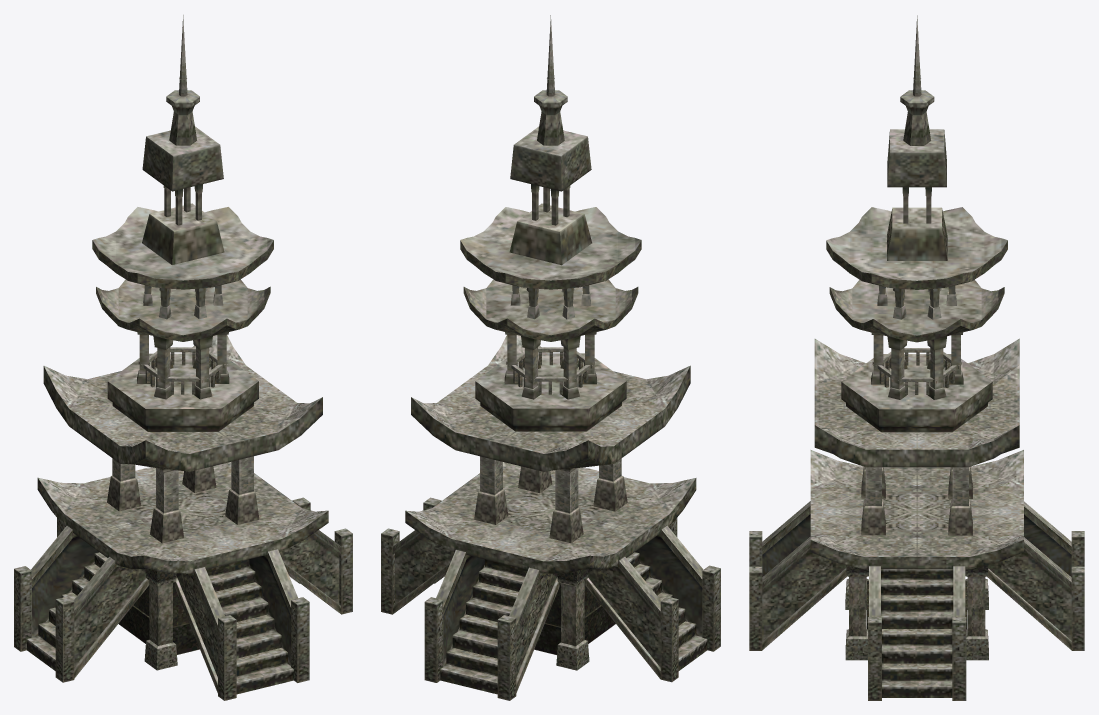
The model's file is c1-037-tower.glb.
3 renders of one model, left to right at view 1: azimuth 30°, elevation 25°; view 2: azimuth 150°, elevation 25°; view 3: azimuth 270°, elevation 25°, orthographic.
Visible parts, largest first — view 1: Object01; view 2: Object01; view 3: Object01.
Boxes of the visible parts, bbox=[...] form: Object01: bbox=[14, 15, 352, 700]; Object01: bbox=[381, 15, 720, 700]; Object01: bbox=[749, 15, 1084, 700].
Bounding box in the file's own units: 7.64 × 15.49 × 7.64.
Materials: 1 (1 with a texture image).
